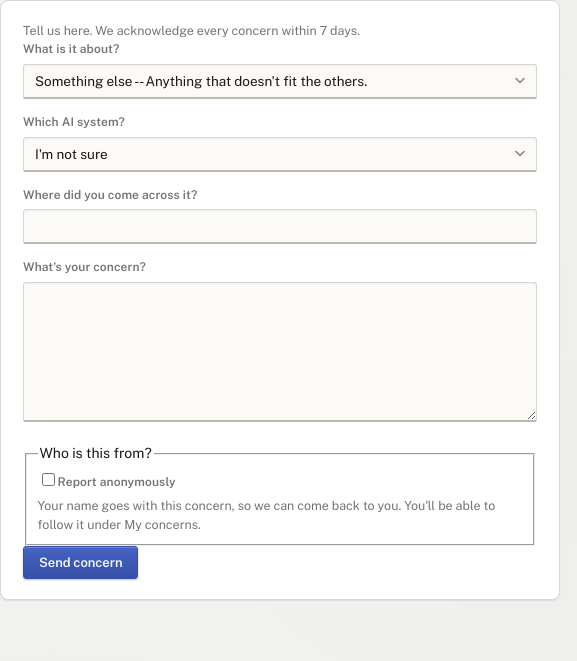
Test: ReportConcernForm › says so when it couldn't be sent
The width and height of the screenshot is (577, 661).
In the text box labelled "What's your concern?": (280, 352) [23,282,537,422], type "The screener keeps ranking candidates from one university first."
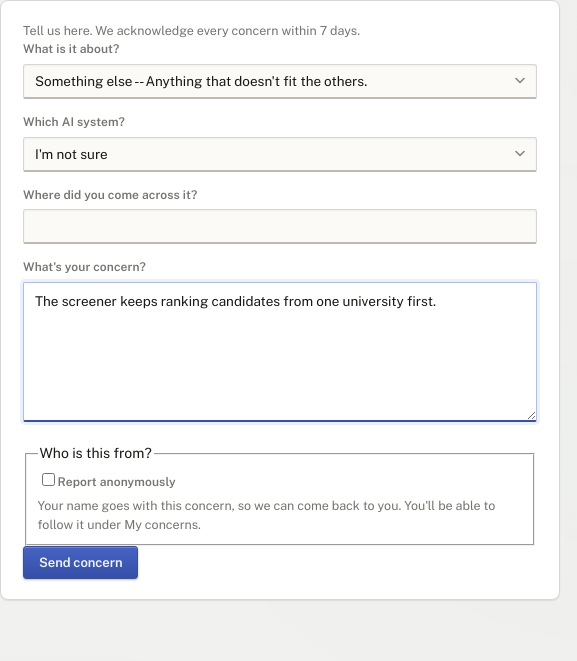
Click the button "Send concern": (81, 562) [23,546,138,579]
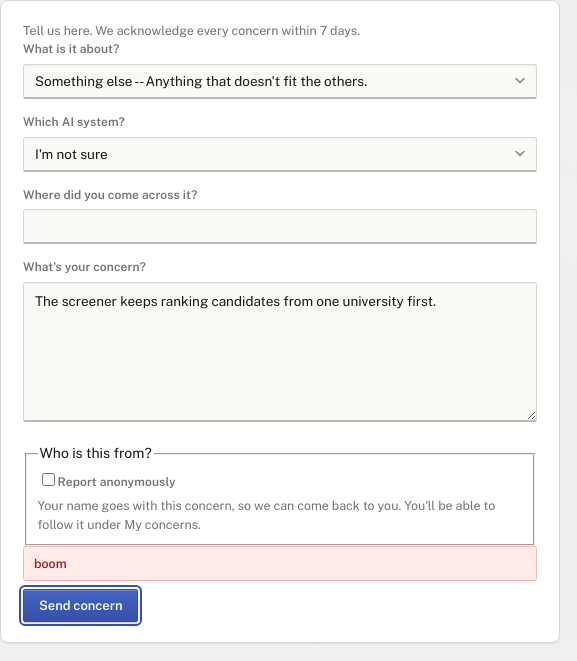
Now the message reads "boom", box [34,556,67,571]
